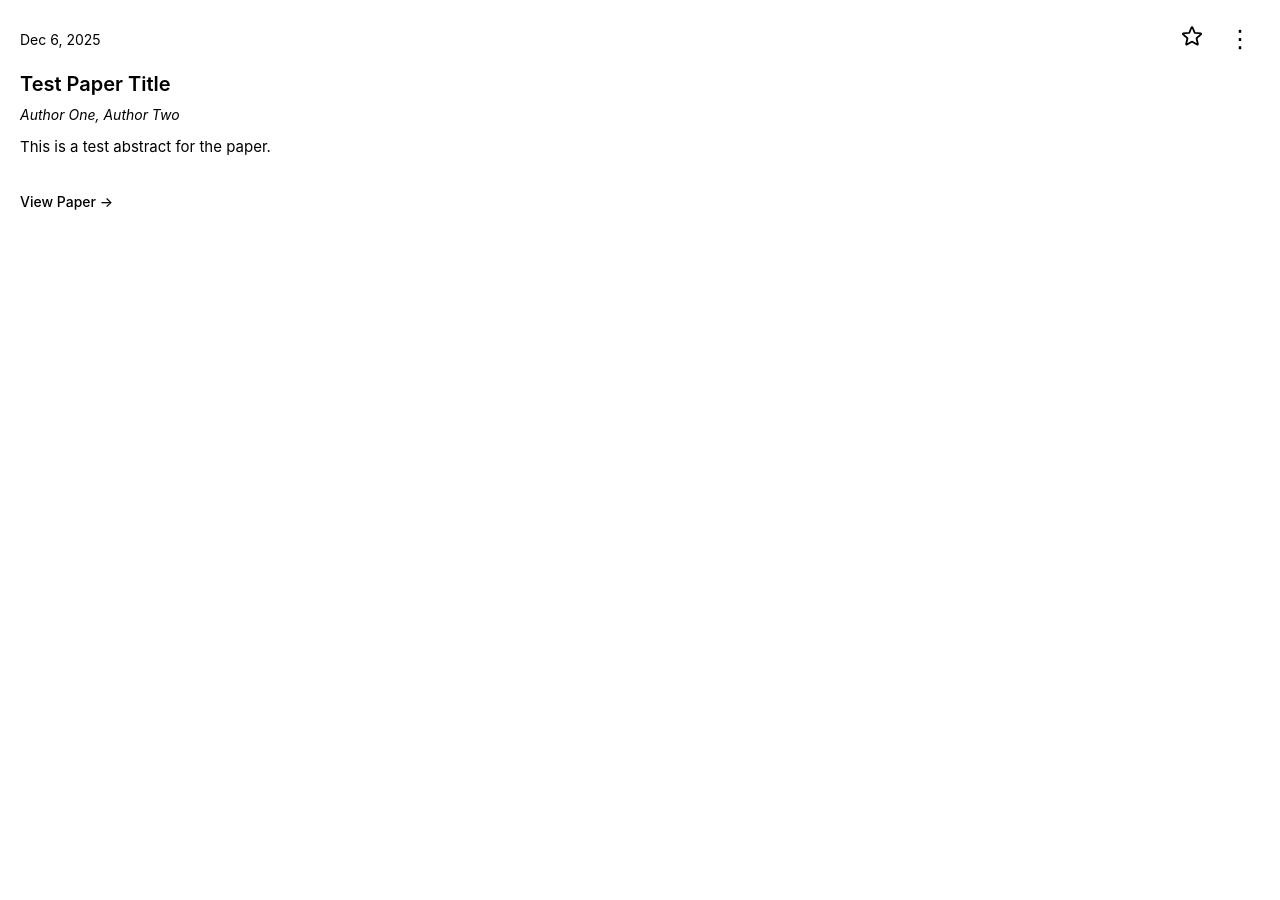
Test case: PaperCard › remove confirmation › should show confirmation modal when remove is clicked
What coordinates should you click on to do the following:
click the button titled "More actions"
I would click on:
 (1240, 39)
Its box is [1220,20,1260,58].
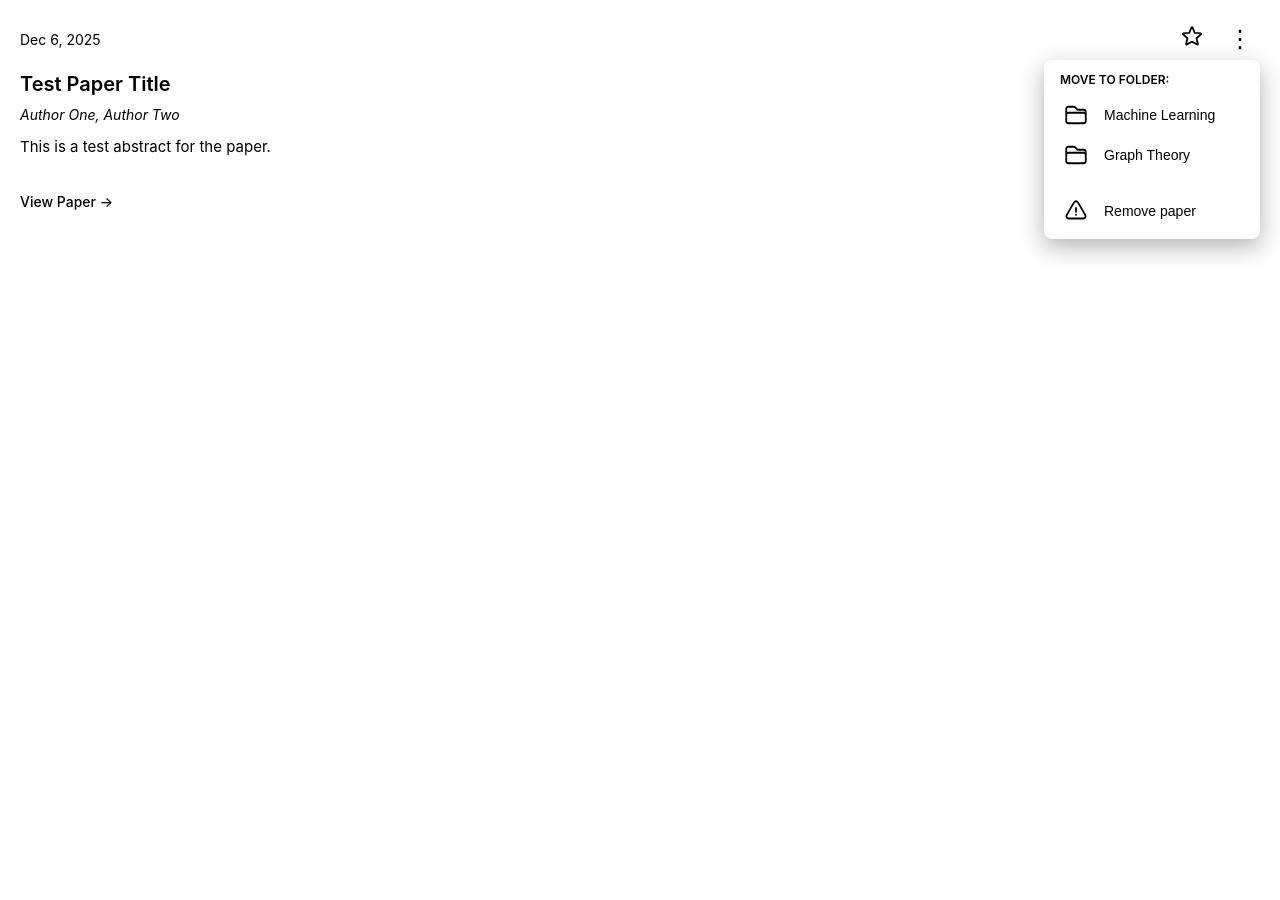
What coordinates should you click on to do the following:
click the button "Remove paper"
I would click on:
 (1152, 211)
Its box is [1052,191,1252,231].
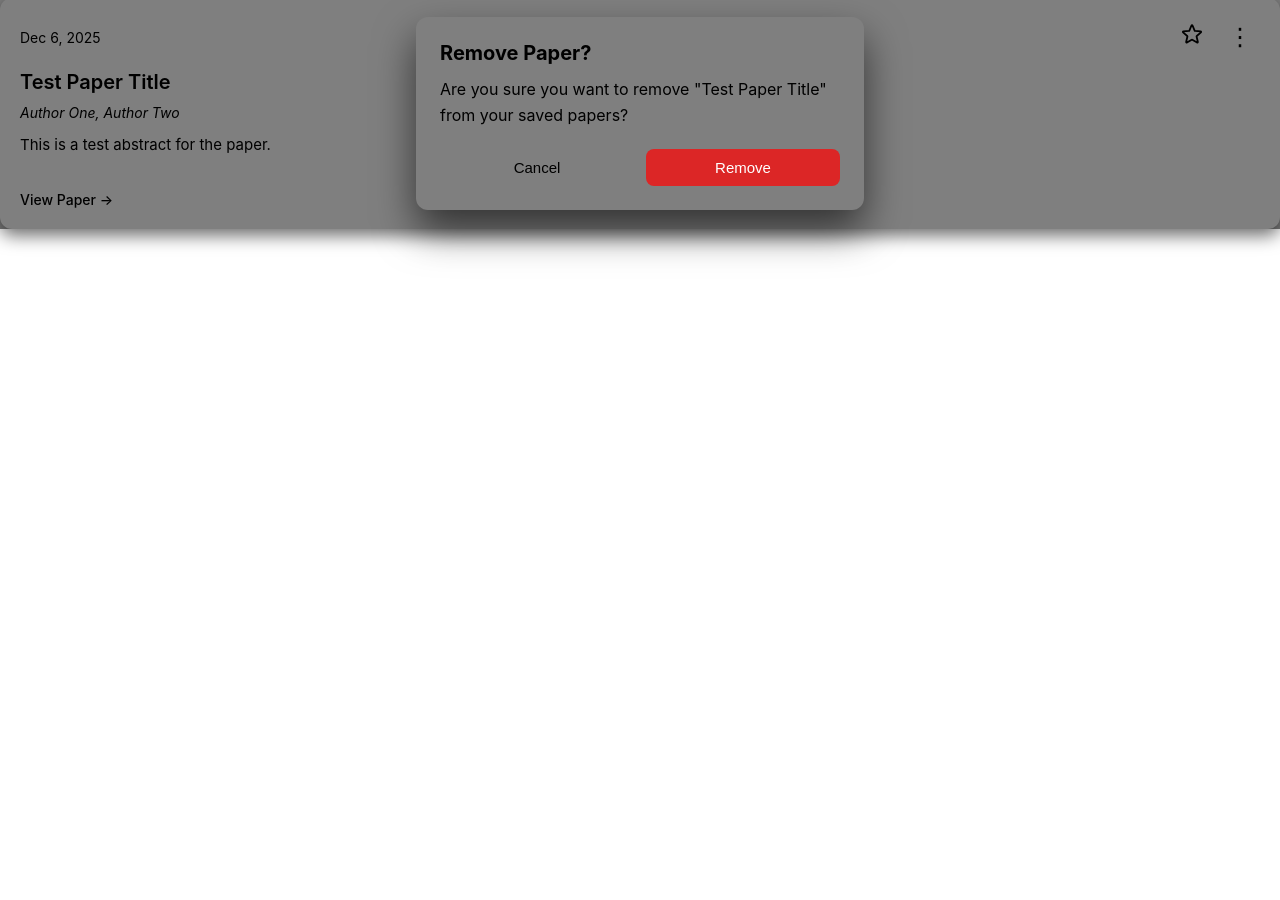
Expected: the text "Are you sure you want to remove" is shown, [440,79,701,99]
